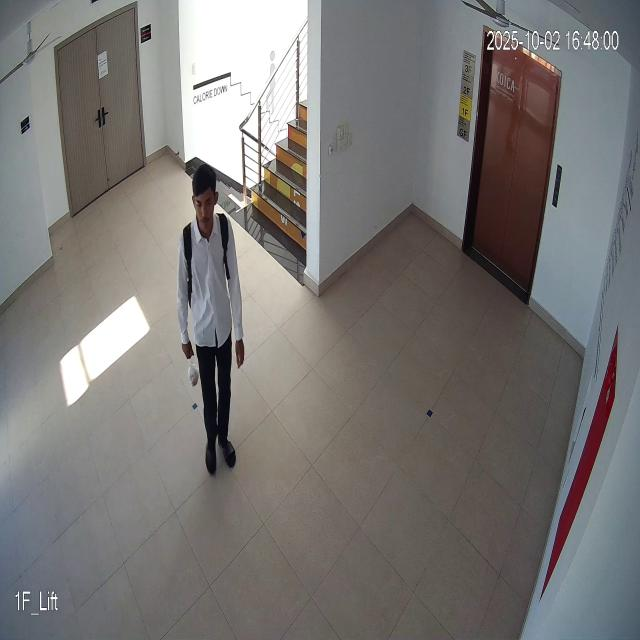face: (190, 165, 223, 236)
